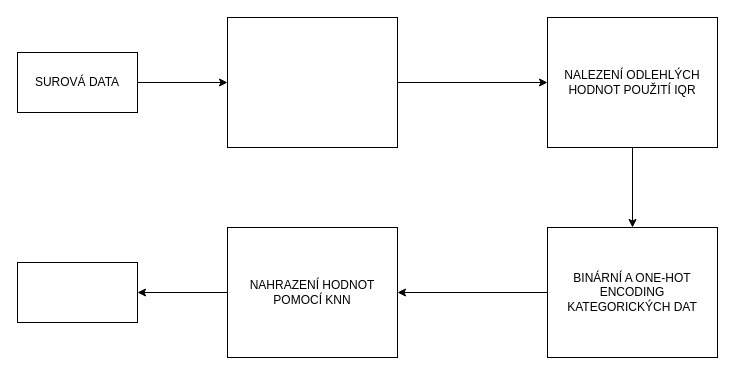
The diagram is 735 pixels wide and 375 high, and some of its shapes have lost their labels. The box of each missing label's shape, as (x1, y1, x2, y2) in pixels:
NALEZENÍ NESPRÁVNÝCH HODNOT (např. věk musí být 15-22): (226, 16, 398, 148)
VYČIŠTĚNÁ DATA: (16, 262, 138, 322)
